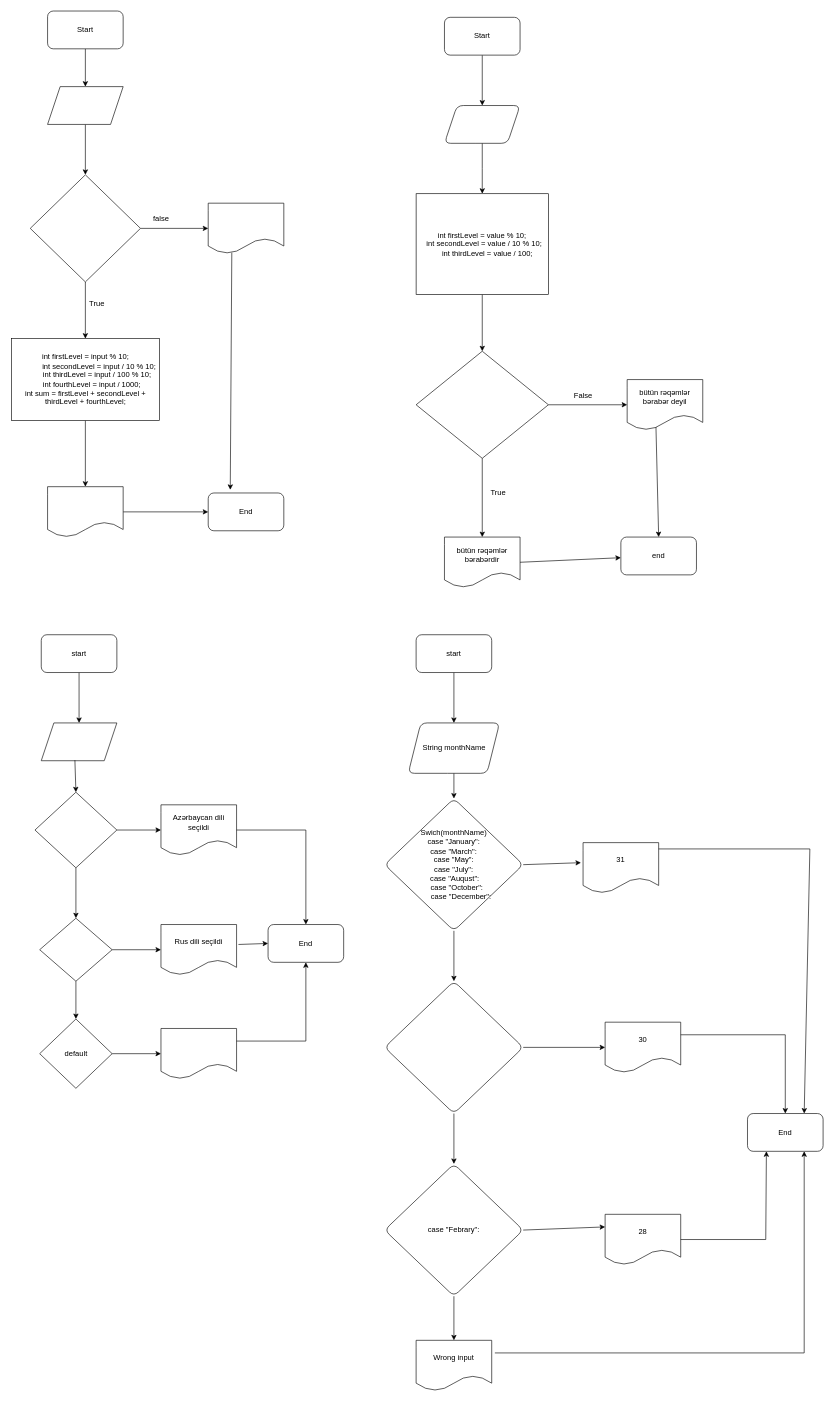
Image size: 834x1402. Some labels were removed from this diagram. The centre of each missing label's shape, as x and y in pixels:
case "April": case "June": case "September": case "November":: [453,1047]
case b case B: [75,949]
char inputValue: [79,741]
if (firstLevel == secondLevel && secondLevel == thirdLevel): [481,404]
If 1000 <= input && input <= 9999: [85,228]
int sum: [85,105]
int value: [482,124]
sum: [85,511]
swich(inputValue) case a case A: [75,830]
Wrong data: [246,228]
Yanlış sorğu: [198,1053]
